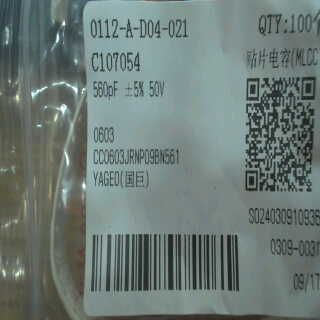560pF: (91, 77, 121, 106)
